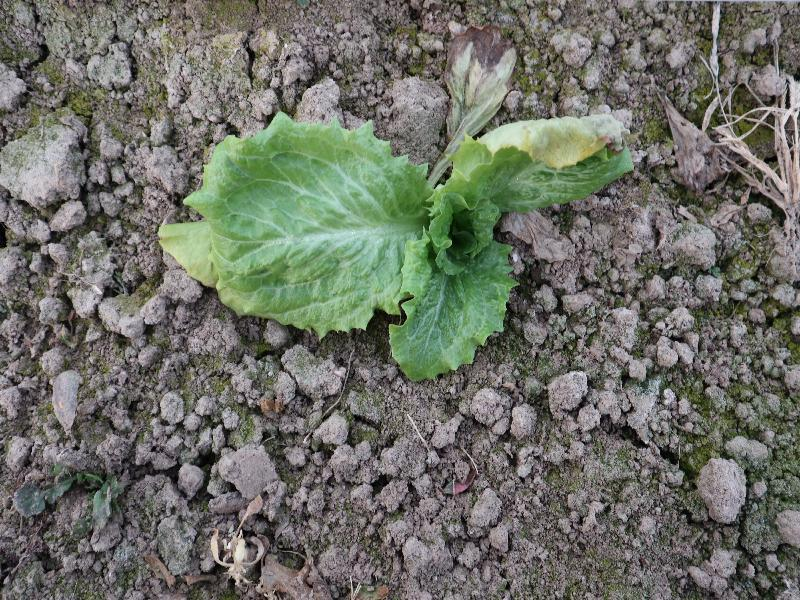lettuce: (156, 109, 633, 382)
